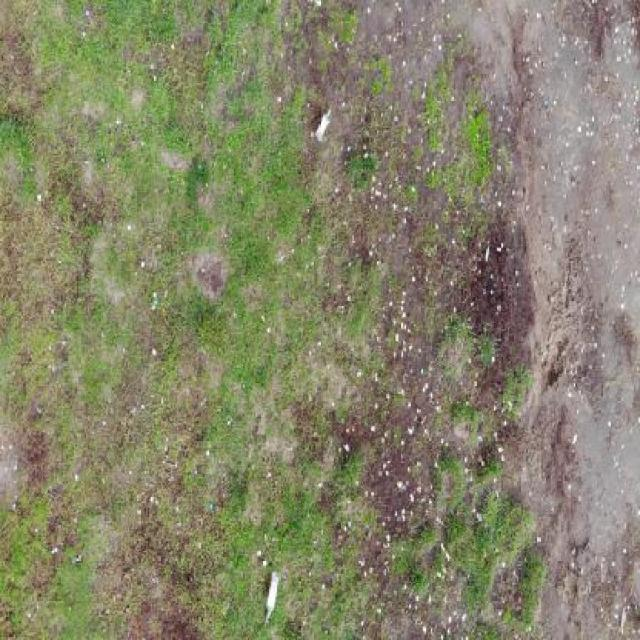Garbage: (266, 572, 282, 623), (314, 108, 332, 145)
